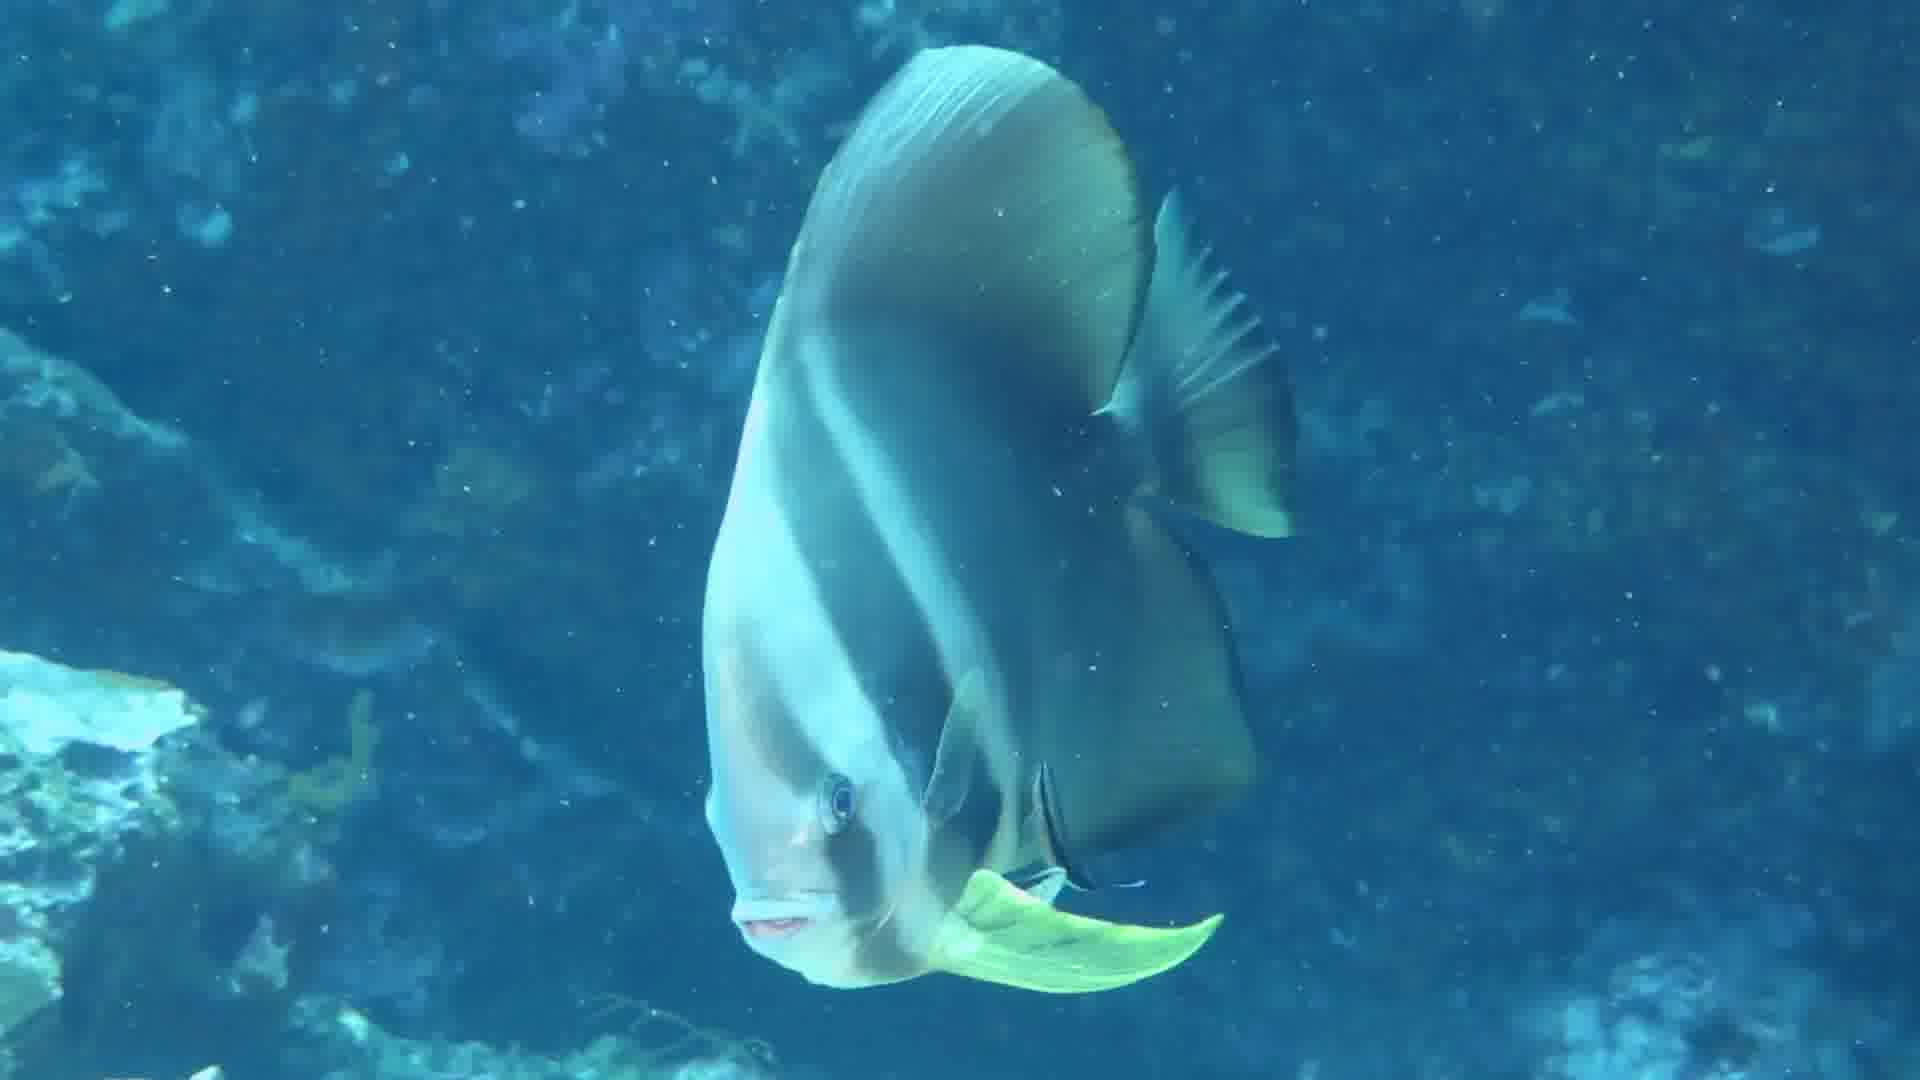Platax teira: (465, 38, 1545, 1052)
